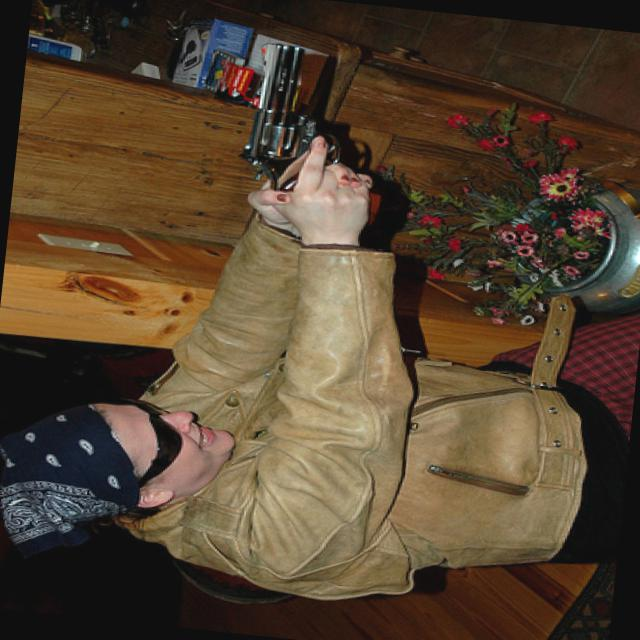handgun: (241, 45, 396, 224)
